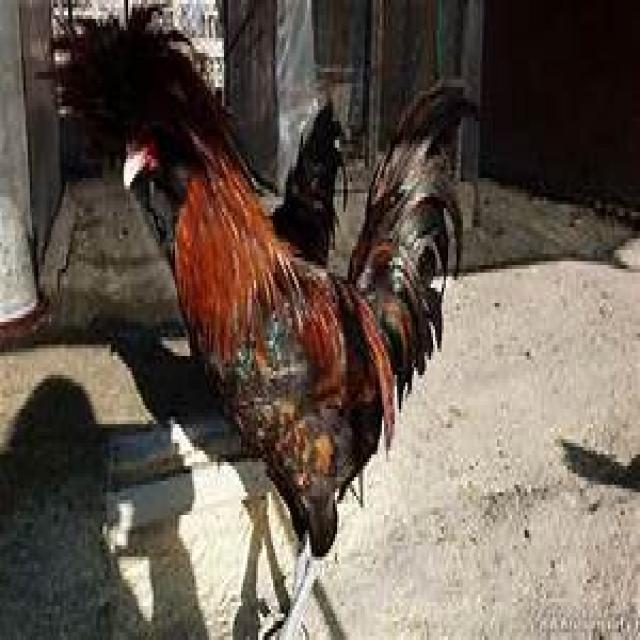animal: (36, 0, 474, 557)
